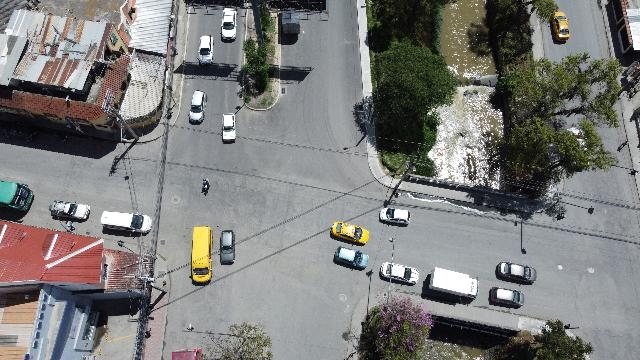Vehiculo: (101, 212, 153, 236), (1, 181, 34, 214), (330, 221, 370, 245), (496, 262, 536, 284), (379, 263, 418, 285), (49, 201, 90, 221), (334, 246, 368, 270), (490, 288, 524, 308), (189, 91, 207, 123), (219, 230, 235, 264), (552, 11, 570, 41), (198, 34, 214, 66), (221, 8, 237, 40), (380, 207, 410, 224), (222, 114, 236, 142)
